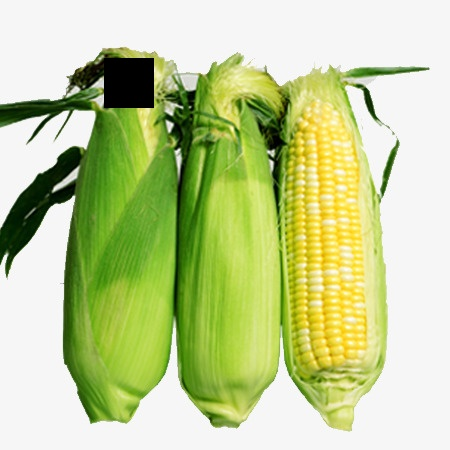corn: (279, 60, 387, 420)
corn_plant: (39, 38, 178, 425), (183, 59, 275, 418)
